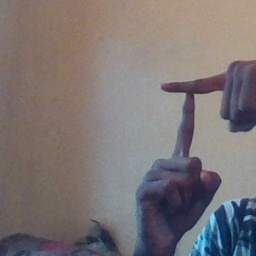T: (141, 60, 242, 181)
